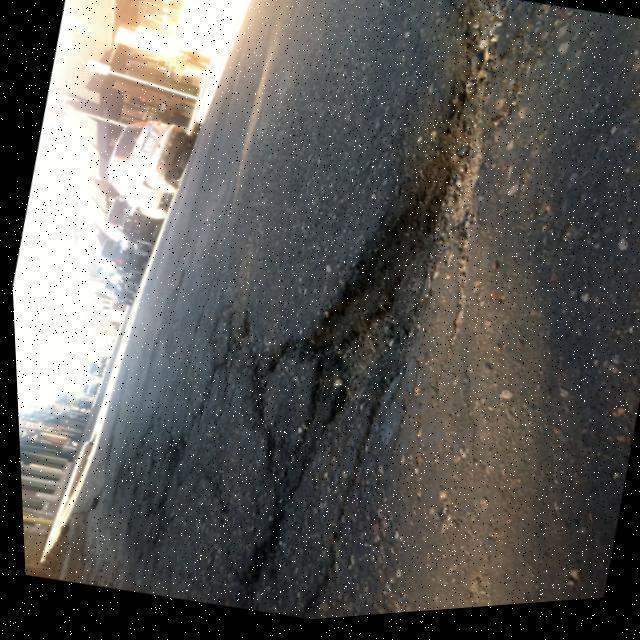Pothole: (301, 0, 513, 426)
